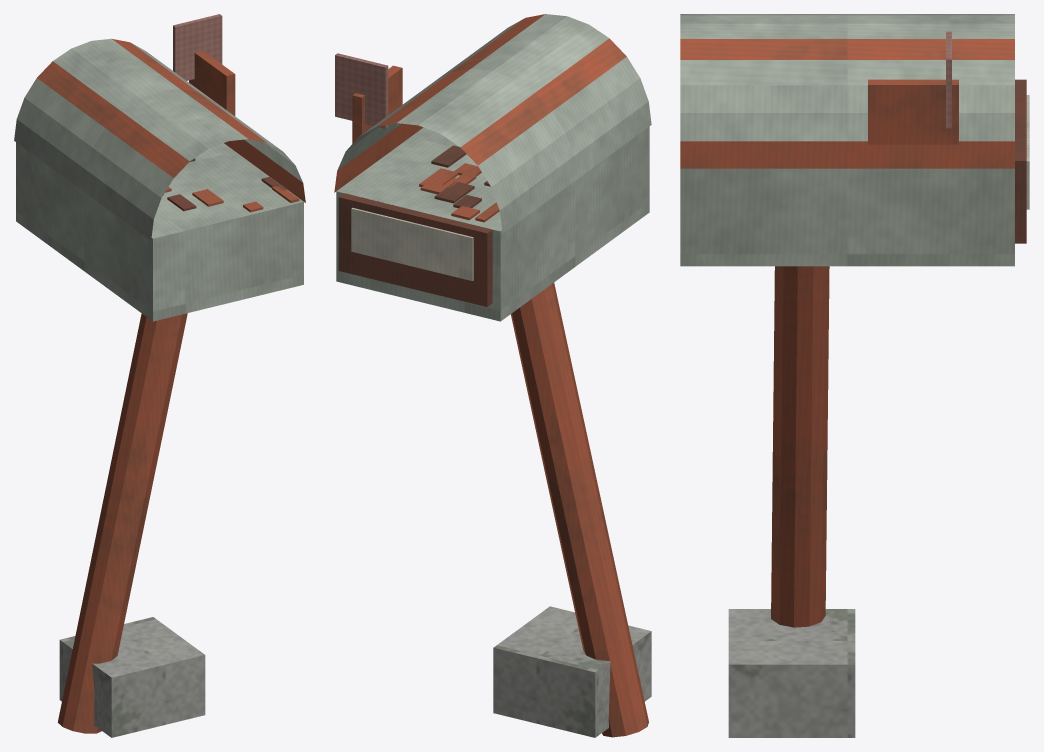
File: rusted_mailbox.glb
The picture shows the model from 3 angles, left to right: view 1: azimuth 30°, elevation 25°; view 2: azimuth 150°, elevation 25°; view 3: azimuth 270°, elevation 25°; orthographic projection. The views are drawn at different scales.
Parts seen in each view (by area): view 1: AshfallDecorativeProp; view 2: AshfallDecorativeProp; view 3: AshfallDecorativeProp.
Part boxes in pixels (left/top/right/bottom): AshfallDecorativeProp: left=14, top=14, right=305, bottom=737; AshfallDecorativeProp: left=334, top=14, right=651, bottom=737; AshfallDecorativeProp: left=680, top=14, right=1029, bottom=737.
Size of the model in its own units: 0.618 by 1.65 by 0.689.
7 materials, 7 textured.
